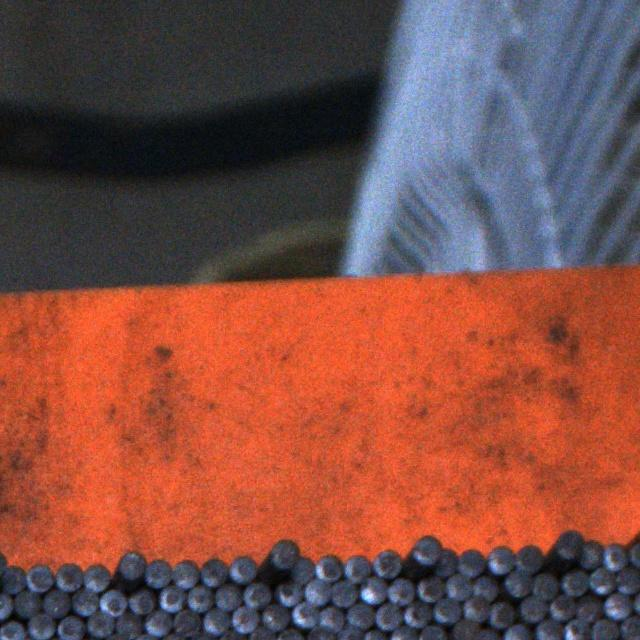tool: (412, 534, 442, 564), (514, 544, 543, 574), (342, 554, 371, 583), (372, 549, 401, 578), (55, 562, 83, 592), (228, 554, 256, 584), (270, 538, 298, 568), (576, 539, 604, 569), (42, 588, 70, 618), (403, 600, 433, 628), (26, 563, 54, 592), (118, 550, 146, 579), (144, 558, 171, 588), (172, 558, 198, 589), (486, 546, 514, 574), (555, 530, 583, 558), (158, 584, 186, 612), (359, 576, 387, 604), (200, 557, 227, 586), (457, 548, 484, 577), (575, 595, 604, 622), (314, 554, 342, 581), (601, 543, 627, 572), (99, 589, 126, 616), (304, 578, 331, 605), (387, 578, 414, 605), (505, 569, 532, 596), (532, 572, 559, 599), (588, 567, 615, 594), (83, 563, 109, 591), (242, 582, 270, 608), (173, 608, 199, 636), (202, 608, 228, 636), (1, 565, 26, 594), (13, 590, 40, 616), (72, 588, 98, 615), (127, 588, 154, 614), (186, 585, 213, 611), (445, 574, 472, 600), (86, 610, 113, 636), (232, 606, 258, 633), (375, 604, 402, 630), (604, 593, 631, 619), (290, 556, 315, 584), (215, 584, 241, 610), (332, 580, 358, 606), (472, 575, 498, 601), (562, 570, 588, 596), (28, 613, 54, 639), (116, 612, 142, 638), (144, 610, 170, 636), (318, 606, 344, 632), (462, 595, 488, 621), (520, 596, 546, 622), (347, 603, 374, 628), (433, 598, 460, 623), (432, 548, 456, 576), (56, 616, 84, 640), (615, 567, 640, 593), (262, 605, 288, 630), (292, 602, 318, 627), (275, 582, 302, 606), (418, 576, 443, 601), (489, 601, 513, 627), (550, 594, 574, 620), (591, 618, 618, 640), (452, 619, 480, 640), (564, 618, 590, 640), (536, 619, 562, 640), (620, 615, 640, 640), (0, 621, 24, 640), (504, 623, 530, 640), (306, 625, 334, 640), (390, 625, 418, 640), (418, 625, 446, 640), (248, 626, 276, 640), (0, 593, 13, 619), (276, 628, 304, 640), (338, 626, 362, 640)
